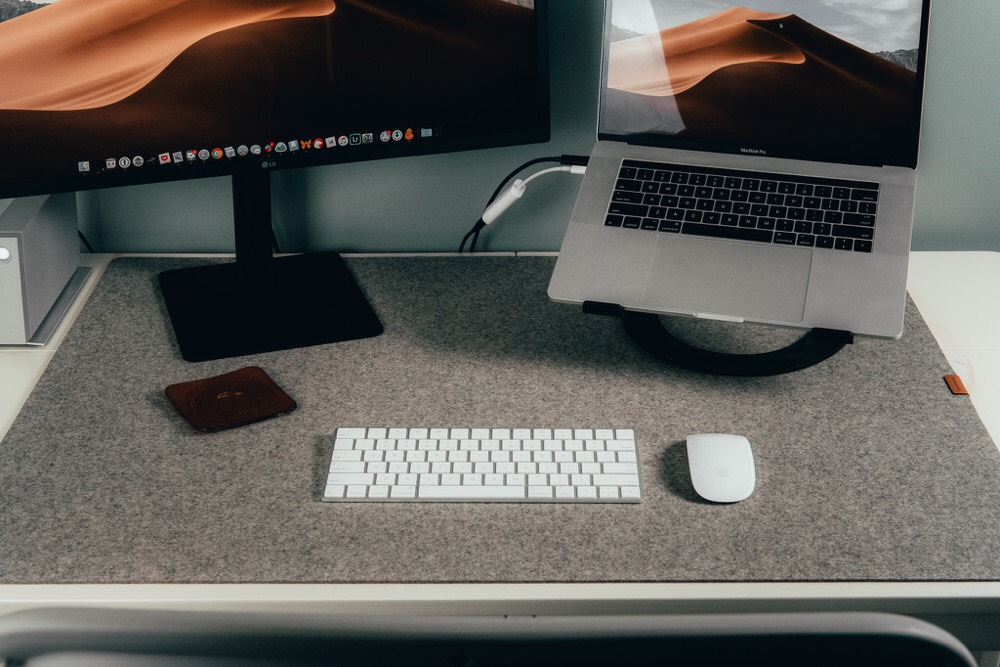keyboard: (310, 412, 662, 515), (602, 150, 900, 258)
mouse: (675, 426, 775, 510)
